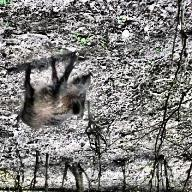boar: (11, 49, 91, 139)
